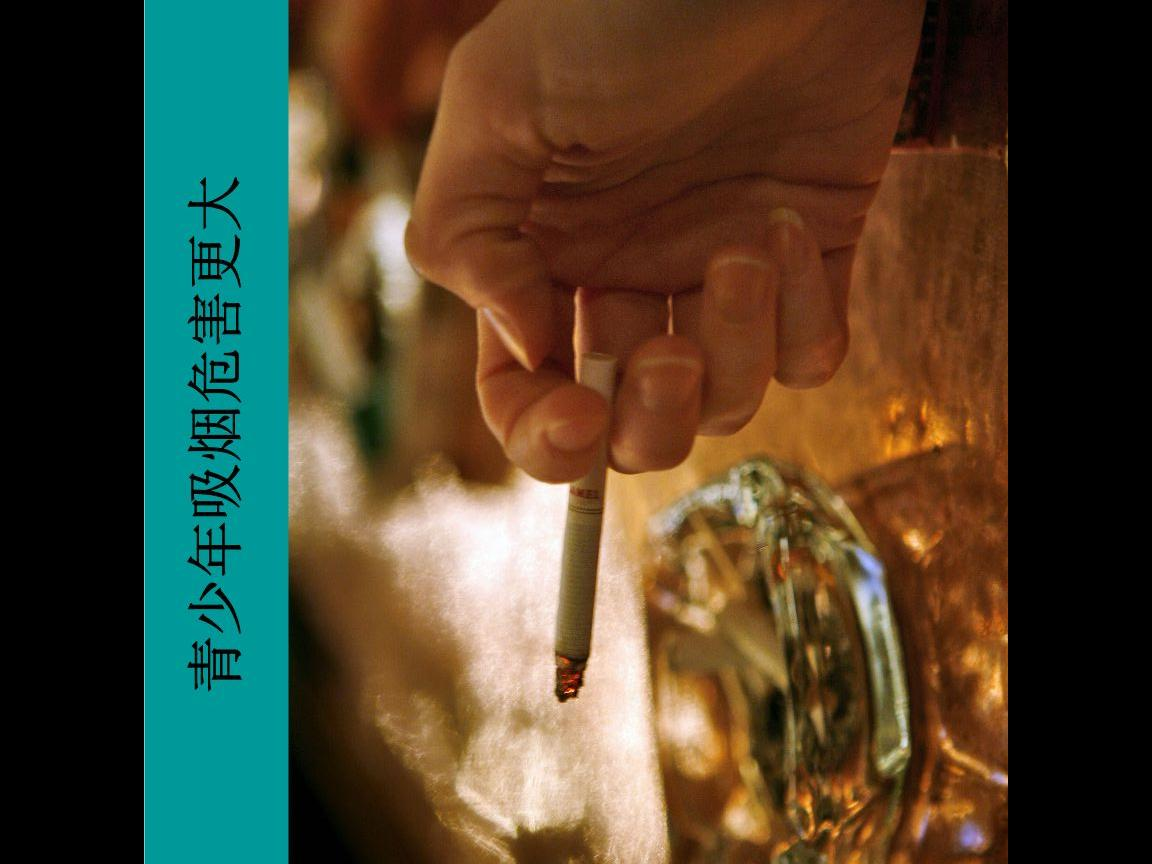Cigarette: (550, 354, 622, 701)
